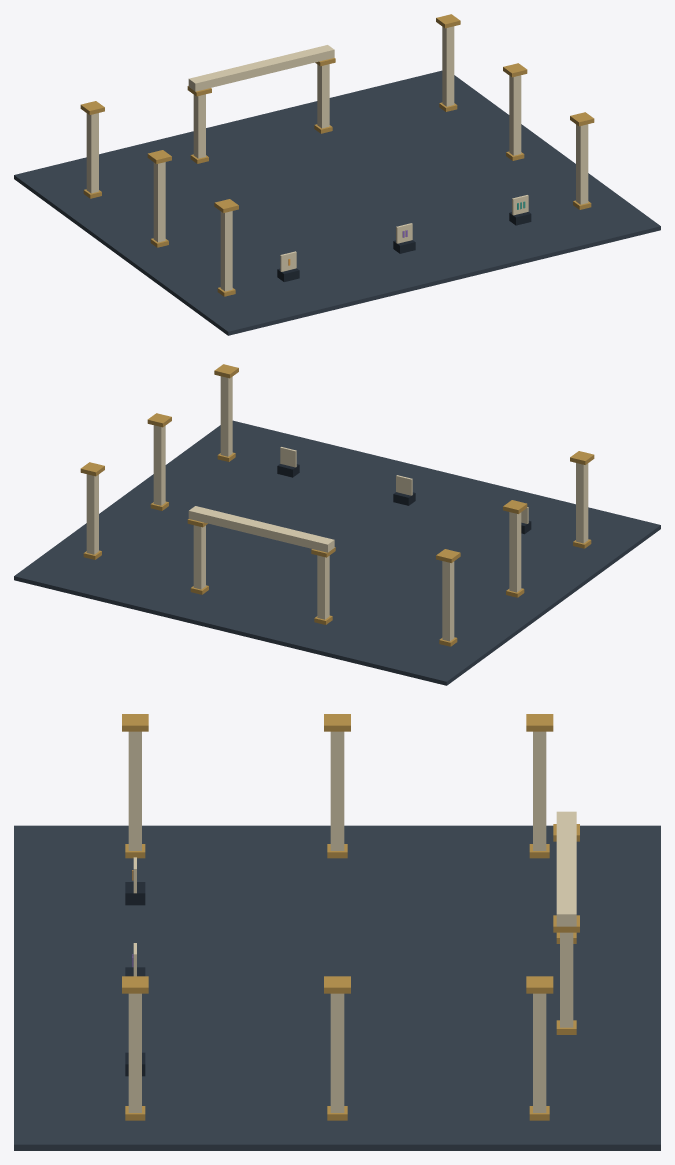
Rendered from warden_approach.glb.
The picture shows the model from 3 angles, top to bottom: view 1: azimuth 30°, elevation 25°; view 2: azimuth 150°, elevation 25°; view 3: azimuth 270°, elevation 25°; orthographic projection. The views are drawn at different scales.
Parts seen in each view (by area): view 1: warden_approach; view 2: warden_approach; view 3: warden_approach.
Part boxes in pixels (x1=…): warden_approach: x1=14, y1=14, x2=660, y2=335; warden_approach: x1=14, y1=364, x2=660, y2=685; warden_approach: x1=14, y1=714, x2=660, y2=1150.
Size of the model in its own units: 112 by 23 by 96.
